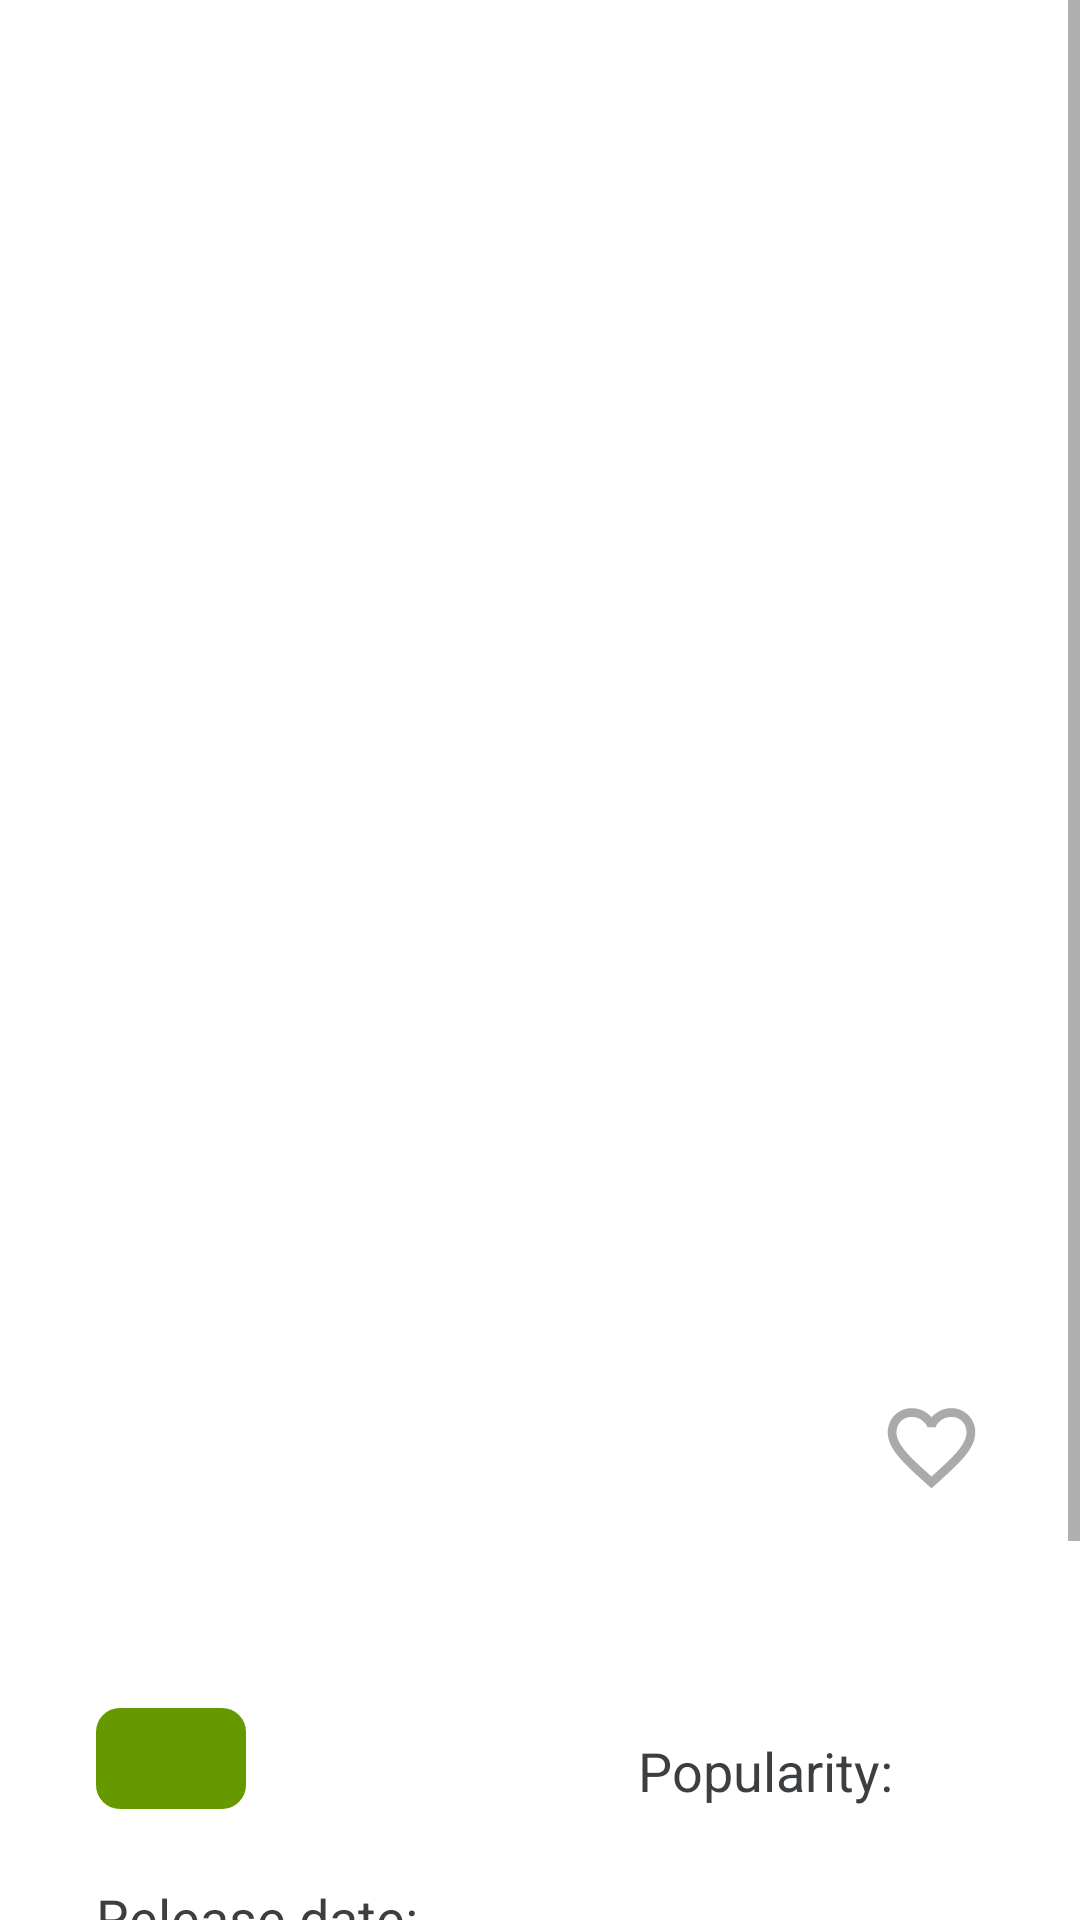

Where to tap for icons on this 1080px×1920px app screen, as (x,y):
favorite: (931,1448)
